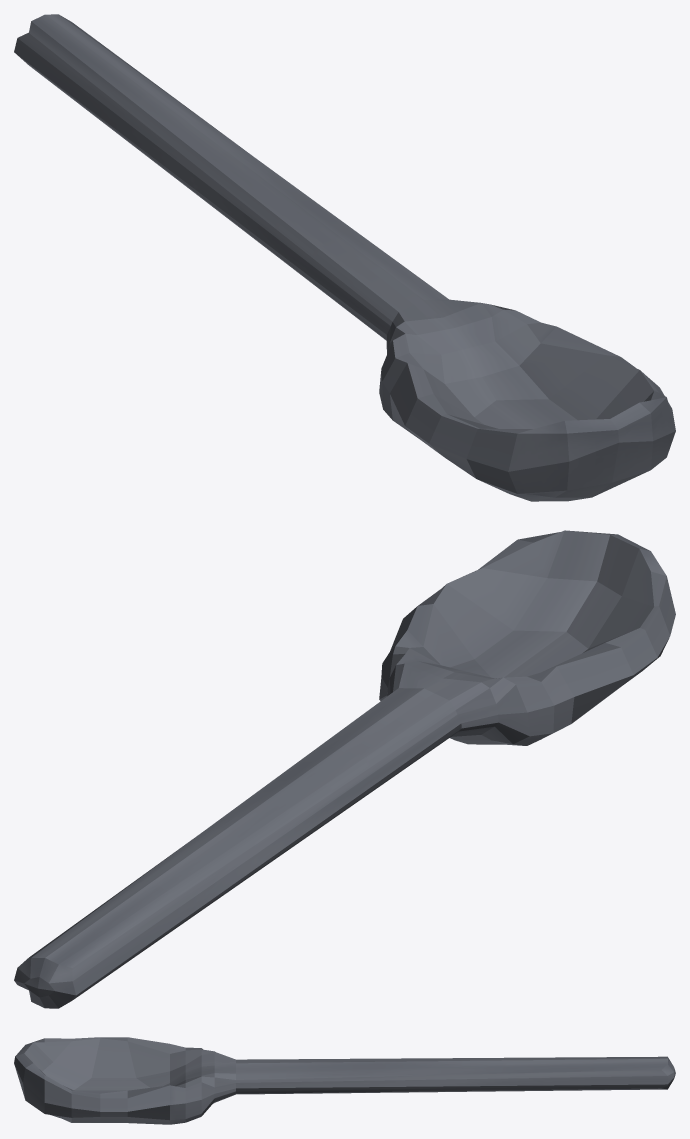
Rendered from Collin_StoneSpoon.fbx.
The picture shows the model from 3 angles, top to bottom: view 1: azimuth 30°, elevation 25°; view 2: azimuth 150°, elevation 25°; view 3: azimuth 270°, elevation 25°; orthographic projection. The views are drawn at different scales.
Visible parts, largest first — view 1: Cube; view 2: Cube; view 3: Cube.
Part boxes in pixels (x1,y1,x2,y2): Cube: [14, 14, 675, 501]; Cube: [14, 530, 675, 1008]; Cube: [14, 1037, 675, 1124].
Size of the model in its own units: 3.07 by 1.45 by 13.41.
Materials: 1 (1 with a texture image).
